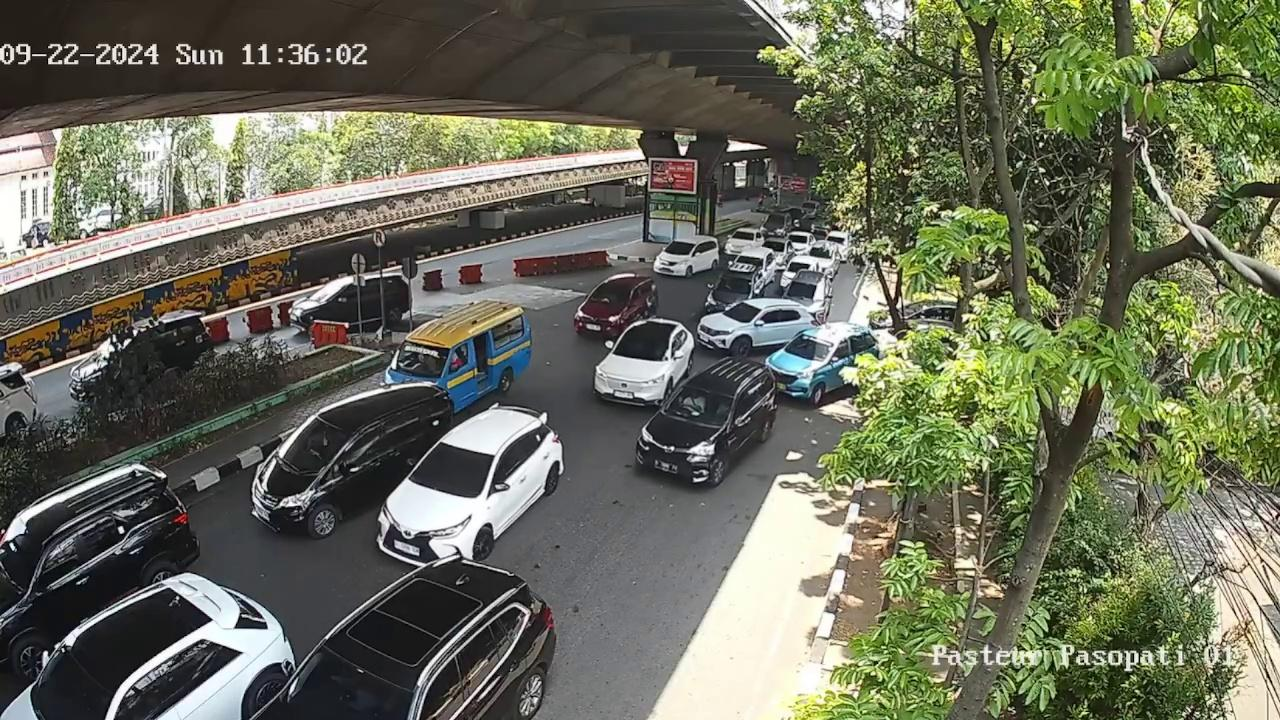pakai: (683, 390, 706, 413)
windshield: (414, 440, 495, 495), (270, 416, 349, 471), (671, 383, 737, 423), (388, 334, 449, 376), (608, 333, 670, 366), (784, 334, 838, 361), (586, 283, 632, 308), (725, 301, 760, 321), (662, 241, 697, 256)
